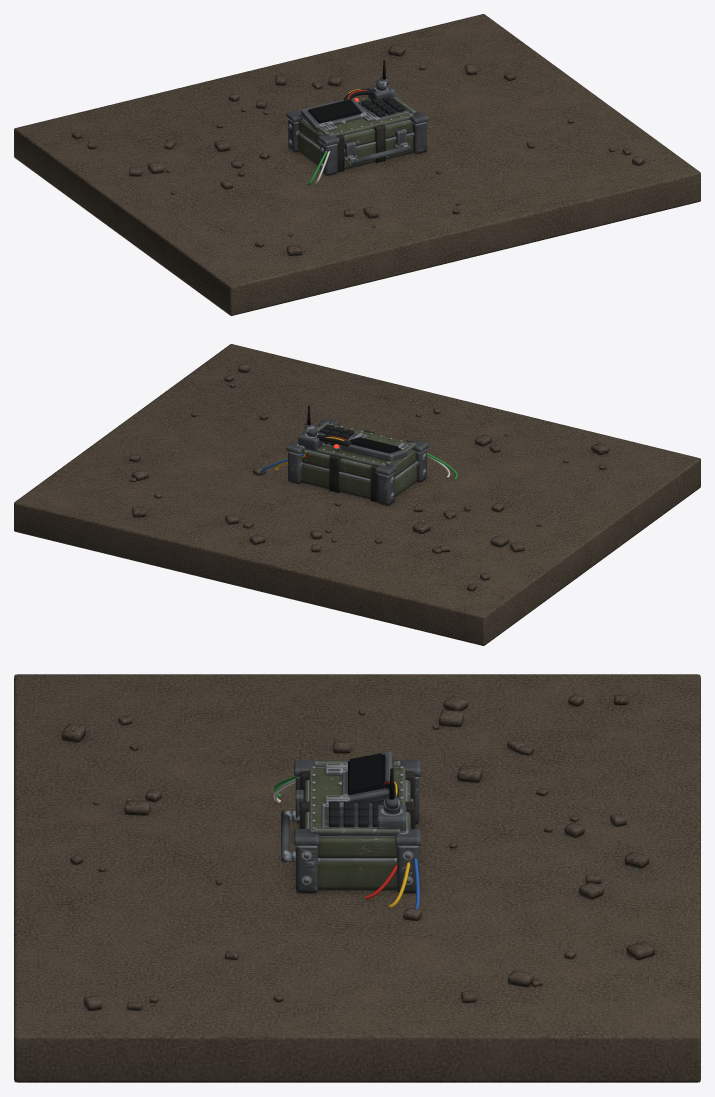
Rendered from bomb.glb.
The picture shows the model from 3 angles, top to bottom: view 1: azimuth 30°, elevation 25°; view 2: azimuth 150°, elevation 25°; view 3: azimuth 270°, elevation 25°; orthographic projection. The views are drawn at different scales.
Visible parts, largest first — view 1: ground, steel, paint, fabric, lcd; view 2: ground, paint, steel, fabric; view 3: ground, steel, paint, lcd, fabric.
Part boxes in pixels (left/top/right/bottom): ground: left=14, top=14, right=700, bottom=315; steel: left=286, top=77, right=428, bottom=175; paint: left=298, top=96, right=415, bottom=169; fabric: left=336, top=124, right=385, bottom=172; lcd: left=310, top=99, right=359, bottom=120; ground: left=14, top=344, right=700, bottom=645; paint: left=301, top=421, right=416, bottom=499; steel: left=286, top=418, right=428, bottom=505; fabric: left=329, top=430, right=412, bottom=502; ground: left=14, top=674, right=700, bottom=1082; steel: left=281, top=751, right=420, bottom=893; paint: left=304, top=760, right=410, bottom=890; lcd: left=350, top=753, right=381, bottom=790; fabric: left=299, top=771, right=415, bottom=828.
Size of the model in its own units: 5 by 1.04 by 4.
16 materials, 4 textured.
